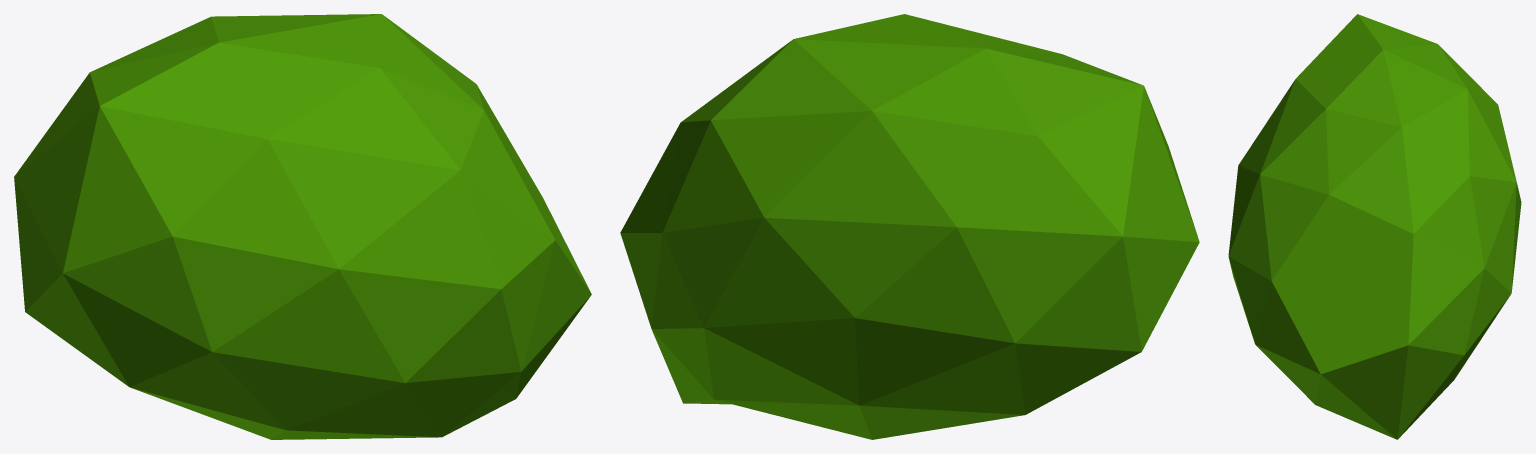
File: Vegetation_Modular_New_Tree_Leaf_Bunch_04.FBX
The picture shows the model from 3 angles, left to right: view 1: azimuth 30°, elevation 25°; view 2: azimuth 150°, elevation 25°; view 3: azimuth 270°, elevation 25°; orthographic projection. The views are drawn at different scales.
Parts seen in each view (by area): view 1: Vegetation_Modular_New_Tree_Leaf_Bunch_04; view 2: Vegetation_Modular_New_Tree_Leaf_Bunch_04; view 3: Vegetation_Modular_New_Tree_Leaf_Bunch_04.
Boxes of the visible parts, x1,y1,x2,y2 form: Vegetation_Modular_New_Tree_Leaf_Bunch_04: [14, 14, 591, 439]; Vegetation_Modular_New_Tree_Leaf_Bunch_04: [620, 14, 1199, 439]; Vegetation_Modular_New_Tree_Leaf_Bunch_04: [1228, 14, 1521, 439].
Bounding box in the file's own units: 1024 × 768 × 701.
